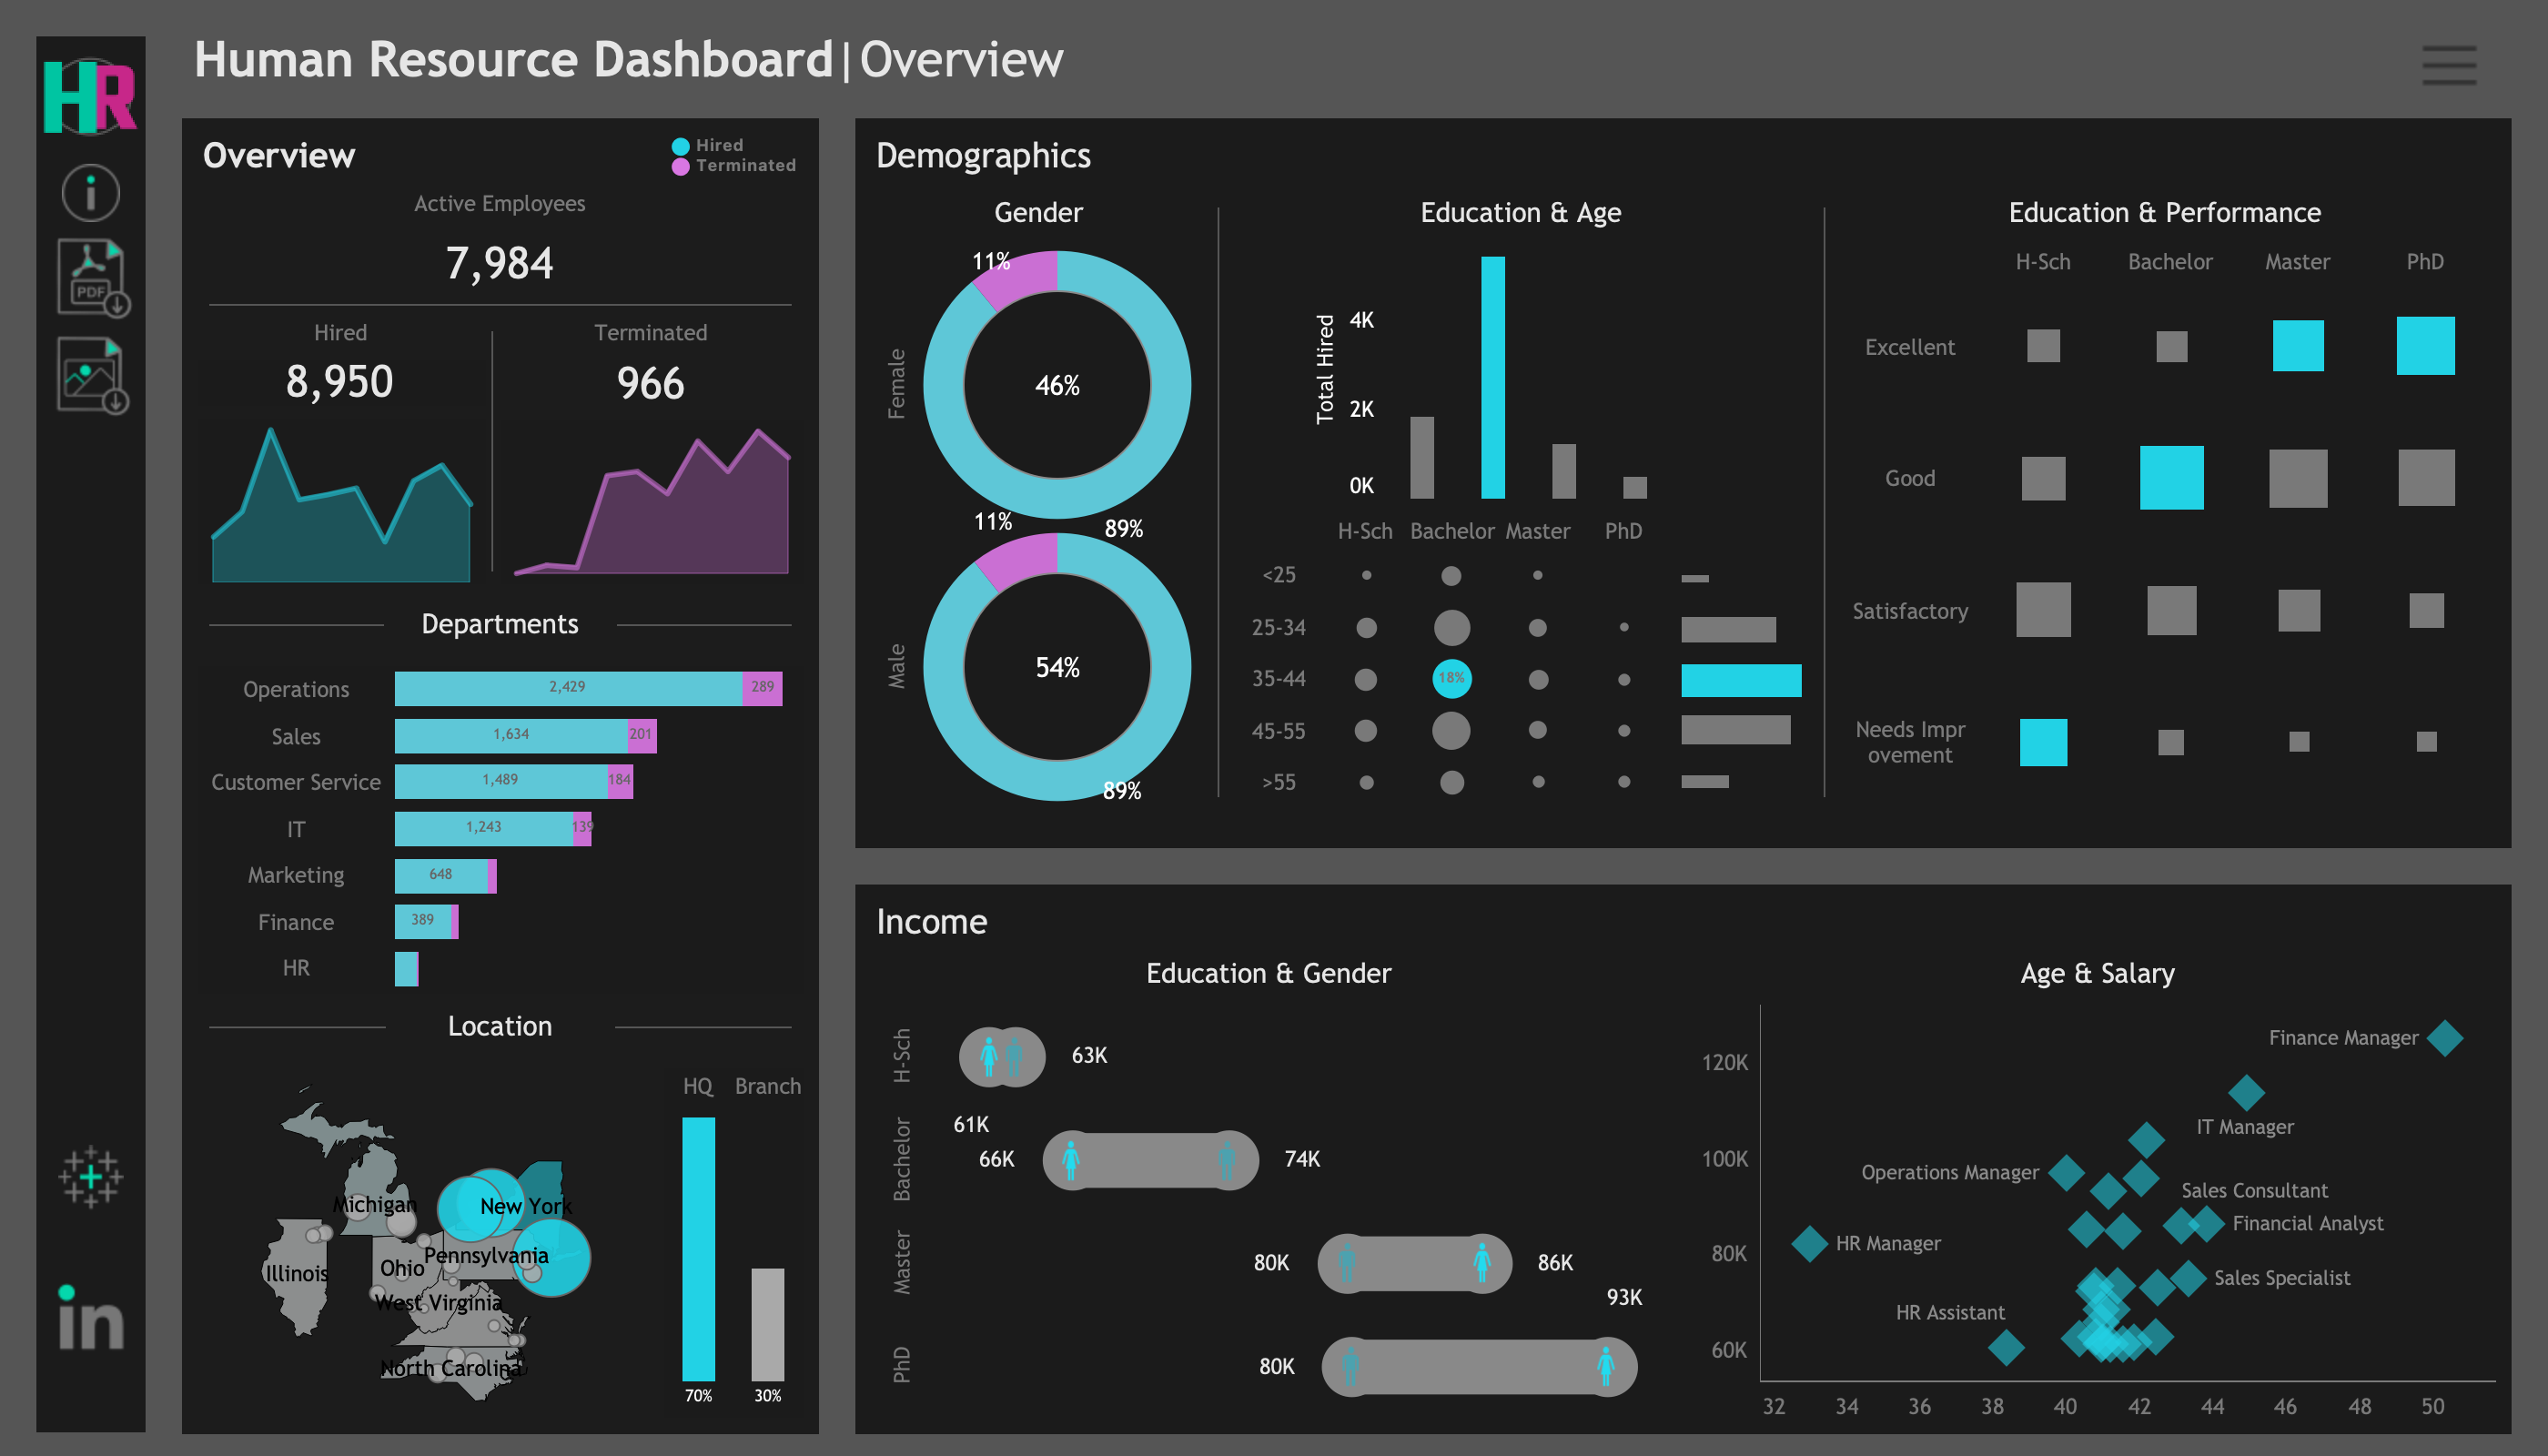

This screenshot's page, from the dashboard's own definition file:
{"tool":"tableau","page":{"name":"HR Summary","canvas":[1400,800],"ordinal":0},"visuals":[{"type":"blank","box":[81,0,1310,302]},{"type":"text","box":[100,0,730,65]},{"type":"blank","box":[830,0,550,65]},{"type":"filter","title":"Income Metrics","param":"[federated.0o3i9871ucd8tv191ejc416ljp4b].[none:Gender:nk]","box":[797,9,175,52]},{"type":"filter","title":"Income Metrics","param":"[federated.0o3i9871ucd8tv191ejc416ljp4b].[none:Calculation_5265622799933341696:n","box":[972,9,174,52]},{"type":"filter","title":"Income Metrics","param":"[federated.0o3i9871ucd8tv191ejc416ljp4b].[none:Calculation_4234791065316216832:n","box":[1146,9,174,52]},{"type":"image","param":"Image/Logo.png","box":[20,20,60,66]},{"type":"dashboard-object","box":[1329,20,35,32]},{"type":"text","box":[105,70,340,31]},{"type":"text","box":[366,70,100,30]},{"type":"text","box":[475,70,900,31]},{"type":"dashboard-object","box":[20,86,60,40]},{"type":"text","box":[105,101,340,22]},{"type":"text","box":[478,104,186,26]},{"type":"blank","box":[669,104,1,344]},{"type":"text","box":[675,104,322,26]},{"type":"blank","box":[1002,104,1,344]},{"type":"text","box":[1008,104,364,26]},{"type":"worksheet","title":"BAN Active","mark":"Text","box":[105,123,340,44]},{"type":"dashboard-object","box":[20,126,60,54]},{"type":"worksheet","title":"Gender","mark":"Pie","rows":["Gender"],"cols":["Calculation_4234791065328459778","Calculation_4234791065328525316"],"box":[478,130,186,318]},{"type":"worksheet","title":"Education Levels","mark":"Bar","rows":["Calculation_4027625482212728832"],"cols":["Education Level"],"box":[675,130,322,148]},{"type":"worksheet","title":"Education vs Perf Rating","mark":"Square","rows":["Performance Rating"],"cols":["Education Level"],"box":[1008,130,364,318]},{"type":"blank","box":[105,167,340,1]},{"type":"text","box":[105,172,165,22]},{"type":"blank","box":[270,172,1,152]},{"type":"text","box":[271,172,174,22]},{"type":"dashboard-object","box":[20,180,60,53]},{"type":"worksheet","title":"BAN Hired","mark":"Text","box":[105,194,165,32]},{"type":"worksheet","title":"BAN Terminated","mark":"Text","box":[271,194,174,32.7]},{"type":"worksheet","title":"Hired Chart","mark":"Line","rows":["Calculation_4027625482212728832","Calculation_4027625482212728832"],"cols":["Hiredate"],"box":[105,226,165,98]},{"type":"worksheet","title":"Terminated Chart","mark":"Line","rows":["Calculation_4027625482212810753","Calculation_4027625482212810753"],"cols":["Termdate"],"box":[271,226.7,174,97.3]},{"type":"blank","box":[20,233,60,392]},{"type":"worksheet","title":"Age vs Education","mark":"Circle","rows":["Calculation_4264908887862452225"],"cols":["Education Level"],"box":[675,278,245,170]},{"type":"worksheet","title":"Age Groups","mark":"Bar","rows":["Calculation_4264908887862452225"],"cols":["Calculation_4027625482212728832"],"box":[920,278,77,170]},{"type":"text","box":[81,302,1310,147]},{"type":"blank","box":[105,328,116,30]},{"type":"text","box":[221,328,108,30]},{"type":"blank","box":[329,328,116,30]},{"type":"worksheet","title":"Department","mark":"Bar","rows":["Department"],"cols":["Calculation_4027625482212728832"],"box":[105,362,340,187]},{"type":"blank","box":[81,449,1310,351]},{"type":"text","box":[475,491,900,31]},{"type":"text","box":[475,522,444.5,26]},{"type":"blank","box":[924.5,522,1,261]},{"type":"text","box":[930.5,522,444.5,26]},{"type":"worksheet","title":"Income Metrics","mark":"Line","rows":["Education Level"],"cols":["Salary","Salary"],"box":[475,548,444.5,235]},{"type":"worksheet","title":"Age vs Salary","mark":"Shape","rows":["Salary"],"cols":["Calculation_4264908887856750592"],"box":[930.5,548,444.5,235]},{"type":"blank","box":[105,549,117.3,30]},{"type":"text","box":[222.3,549,105.3,30]},{"type":"blank","box":[327.7,549,117.3,30]},{"type":"worksheet","title":"Map","mark":"Automatic","box":[105,583,256,200]},{"type":"worksheet","title":"Location","mark":"Bar","rows":["Calculation_4027625482212728832"],"cols":["Calculation_4234791065316216832","Total Active (copy)_4306144971961446402"],"box":[361,583,84,200]},{"type":"image","param":"Image/contact-public.png","box":[20,625,60,44]},{"type":"blank","box":[20,669,60,32]},{"type":"image","param":"Image/contact-linkedin.png","box":[20,701,60,46]},{"type":"blank","box":[20,747,60,40]}]}

Visuals, with their boxes on the page's 1400x800 design canvas (x1, y1, x2, y2). These are canvas units, not pixel positions in the 2548x1456 screenshot, which may show the page scaled, cropped or inside an application window:
blank: <bbox>81, 0, 1391, 302</bbox>
text: <bbox>100, 0, 830, 65</bbox>
blank: <bbox>830, 0, 1380, 65</bbox>
"Income Metrics" filter: <bbox>797, 9, 972, 61</bbox>
"Income Metrics" filter: <bbox>972, 9, 1146, 61</bbox>
"Income Metrics" filter: <bbox>1146, 9, 1320, 61</bbox>
image: <bbox>20, 20, 80, 86</bbox>
dashboard-object: <bbox>1329, 20, 1364, 52</bbox>
text: <bbox>105, 70, 445, 101</bbox>
text: <bbox>366, 70, 466, 100</bbox>
text: <bbox>475, 70, 1375, 101</bbox>
dashboard-object: <bbox>20, 86, 80, 126</bbox>
text: <bbox>105, 101, 445, 123</bbox>
text: <bbox>478, 104, 664, 130</bbox>
blank: <bbox>669, 104, 670, 448</bbox>
text: <bbox>675, 104, 997, 130</bbox>
blank: <bbox>1002, 104, 1003, 448</bbox>
text: <bbox>1008, 104, 1372, 130</bbox>
"BAN Active" worksheet (Text marks): <bbox>105, 123, 445, 167</bbox>
dashboard-object: <bbox>20, 126, 80, 180</bbox>
"Gender" worksheet (Pie marks): <bbox>478, 130, 664, 448</bbox>
"Education Levels" worksheet (Bar marks): <bbox>675, 130, 997, 278</bbox>
"Education vs Perf Rating" worksheet (Square marks): <bbox>1008, 130, 1372, 448</bbox>
blank: <bbox>105, 167, 445, 168</bbox>
text: <bbox>105, 172, 270, 194</bbox>
blank: <bbox>270, 172, 271, 324</bbox>
text: <bbox>271, 172, 445, 194</bbox>
dashboard-object: <bbox>20, 180, 80, 233</bbox>
"BAN Hired" worksheet (Text marks): <bbox>105, 194, 270, 226</bbox>
"BAN Terminated" worksheet (Text marks): <bbox>271, 194, 445, 227</bbox>
"Hired Chart" worksheet (Line marks): <bbox>105, 226, 270, 324</bbox>
"Terminated Chart" worksheet (Line marks): <bbox>271, 227, 445, 324</bbox>
blank: <bbox>20, 233, 80, 625</bbox>
"Age vs Education" worksheet (Circle marks): <bbox>675, 278, 920, 448</bbox>
"Age Groups" worksheet (Bar marks): <bbox>920, 278, 997, 448</bbox>
text: <bbox>81, 302, 1391, 449</bbox>
blank: <bbox>105, 328, 221, 358</bbox>
text: <bbox>221, 328, 329, 358</bbox>
blank: <bbox>329, 328, 445, 358</bbox>
"Department" worksheet (Bar marks): <bbox>105, 362, 445, 549</bbox>
blank: <bbox>81, 449, 1391, 800</bbox>
text: <bbox>475, 491, 1375, 522</bbox>
text: <bbox>475, 522, 920, 548</bbox>
blank: <bbox>924, 522, 926, 783</bbox>
text: <bbox>930, 522, 1375, 548</bbox>
"Income Metrics" worksheet (Line marks): <bbox>475, 548, 920, 783</bbox>
"Age vs Salary" worksheet (Shape marks): <bbox>930, 548, 1375, 783</bbox>
blank: <bbox>105, 549, 222, 579</bbox>
text: <bbox>222, 549, 328, 579</bbox>
blank: <bbox>328, 549, 445, 579</bbox>
"Map" worksheet: <bbox>105, 583, 361, 783</bbox>
"Location" worksheet (Bar marks): <bbox>361, 583, 445, 783</bbox>
image: <bbox>20, 625, 80, 669</bbox>
blank: <bbox>20, 669, 80, 701</bbox>
image: <bbox>20, 701, 80, 747</bbox>
blank: <bbox>20, 747, 80, 787</bbox>
